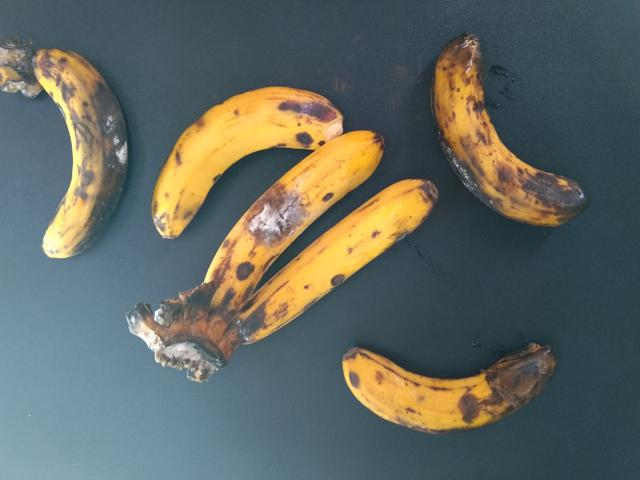overripe: (226, 182, 432, 354), (147, 73, 351, 239), (209, 126, 378, 294)
rotten: (429, 30, 611, 257), (335, 306, 588, 446), (7, 27, 132, 263)
